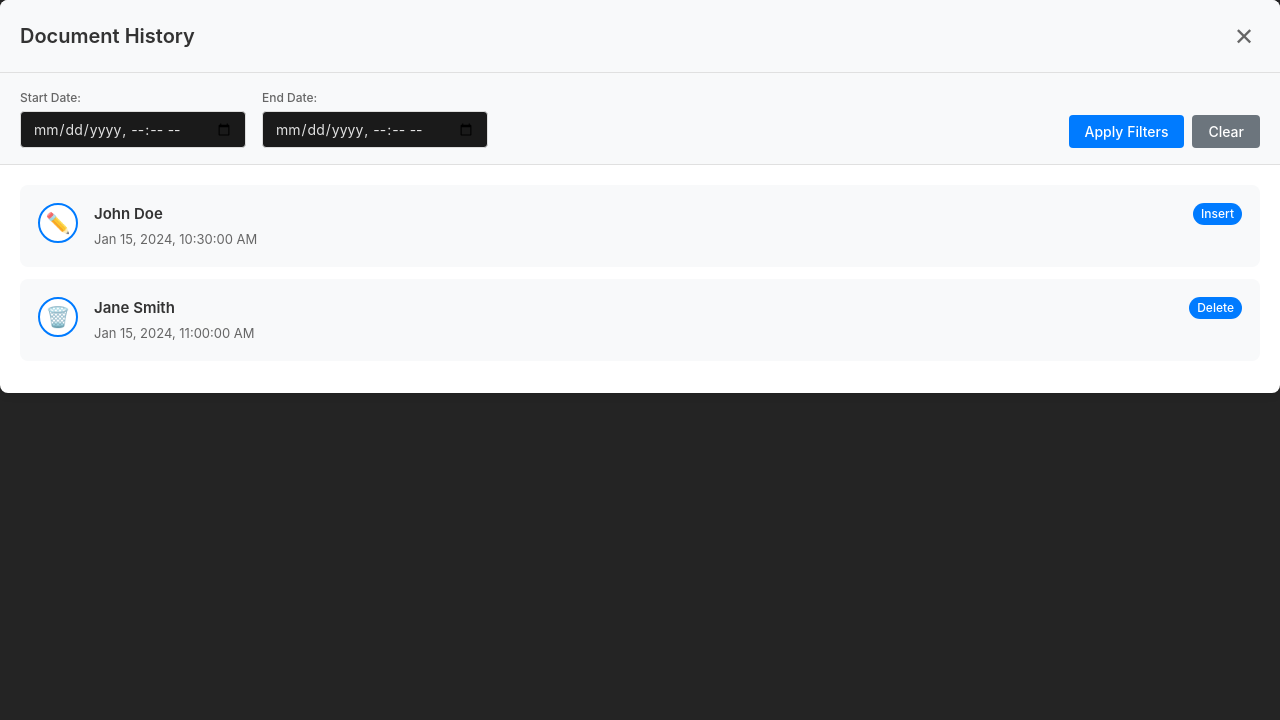
Test: DocumentHistory - Restore Integration › handles restore errors gracefully
Check: the text "John Doe" is shown, box [94,203,163,226]
// Click on a history item
What coordinates should you click on to do the following:
click the button "John Doe"
I would click on:
 (58, 223)
Its box is [20,185,1260,267].
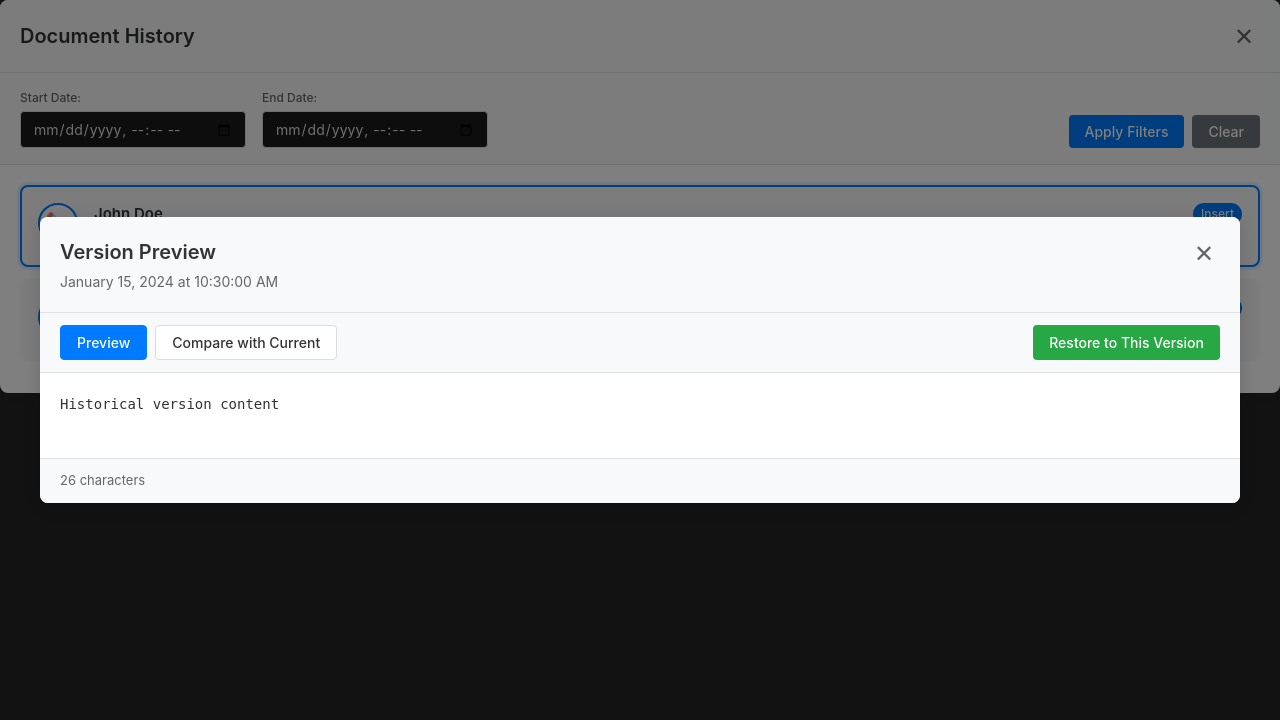
Check: the heading "Version Preview" is shown, box [60,240,216,264]
Check: the text box holds "Historical version content", box [40,373,1240,458]
// Click restore button
What coordinates should you click on to do the following:
click the button "Restore to This Version"
I would click on:
 (1127, 343)
Its box is [1033,325,1220,360].
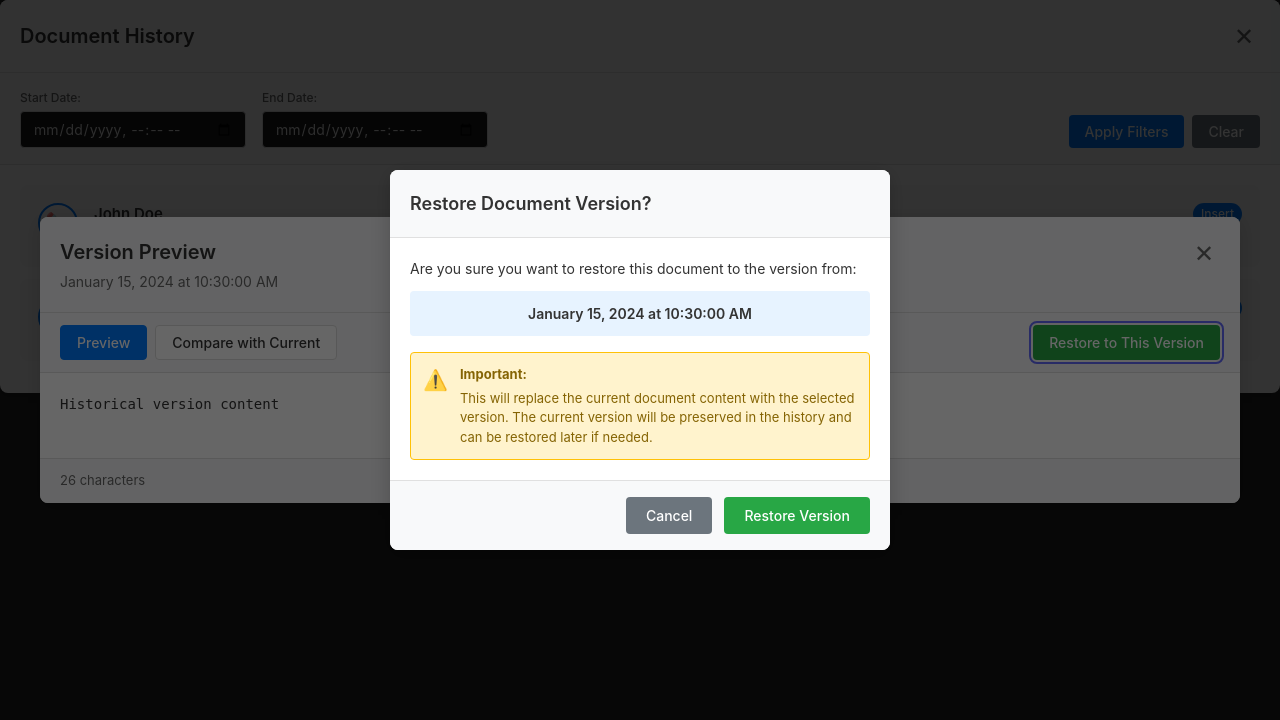
Check: the heading "Restore Document Version?" is shown, box [410,193,652,214]
// Click confirm
What coordinates should you click on to do the following:
click the button "Restore Version"
I would click on:
 (797, 516)
Its box is [724,497,870,534].
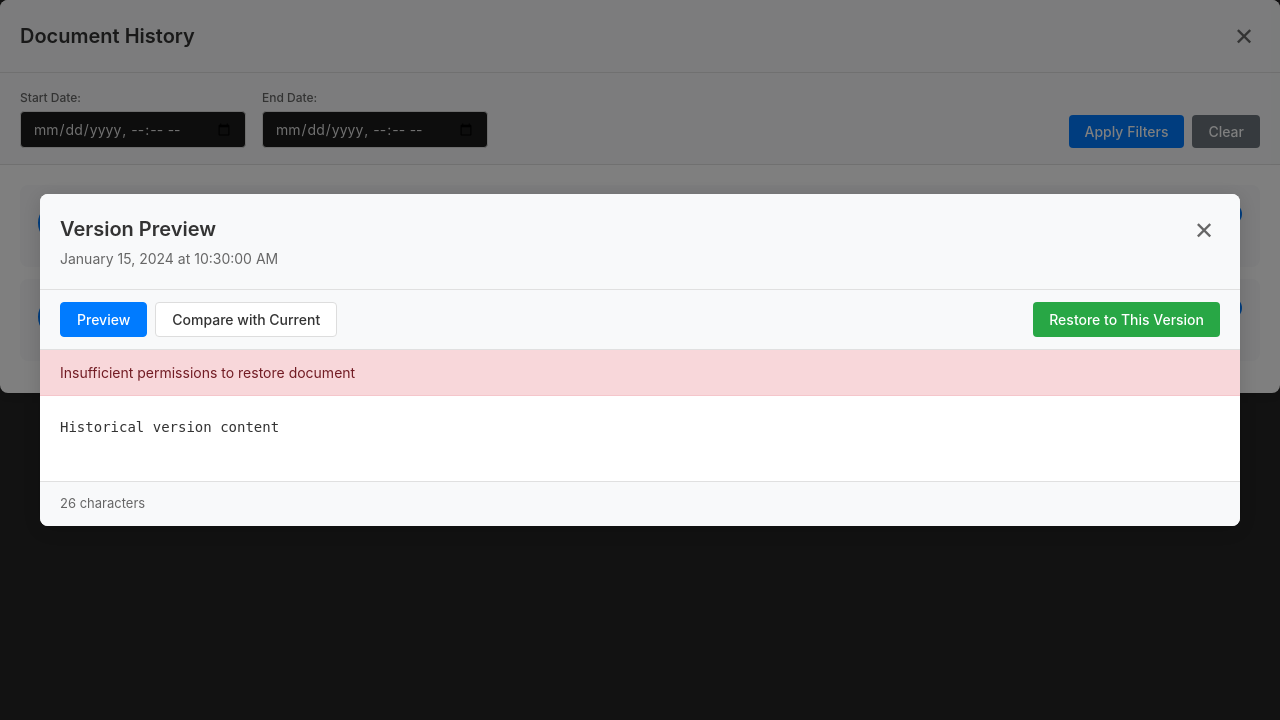
Check: the heading "Version Preview" is shown, box [60,217,216,241]
Check: the text "Insufficient permissions to restore document" is shown, box [40,350,1240,396]
